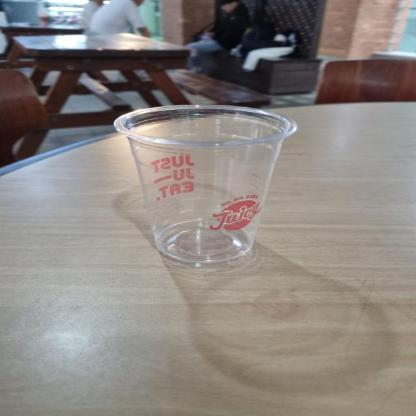Plastic Cup: (107, 101, 304, 269)
